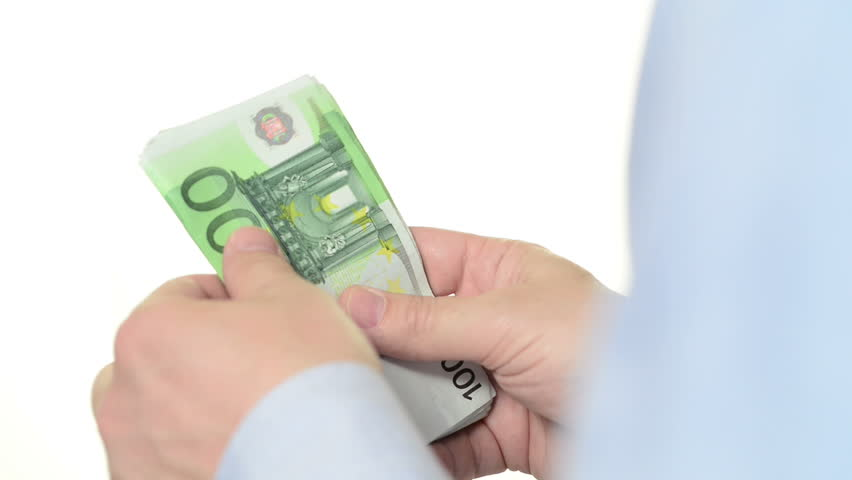billete: (137, 73, 498, 450)
